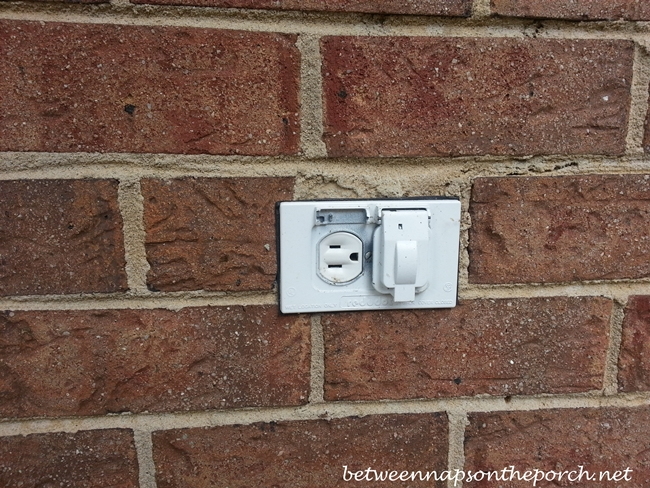outlet: (324, 239, 362, 273)
